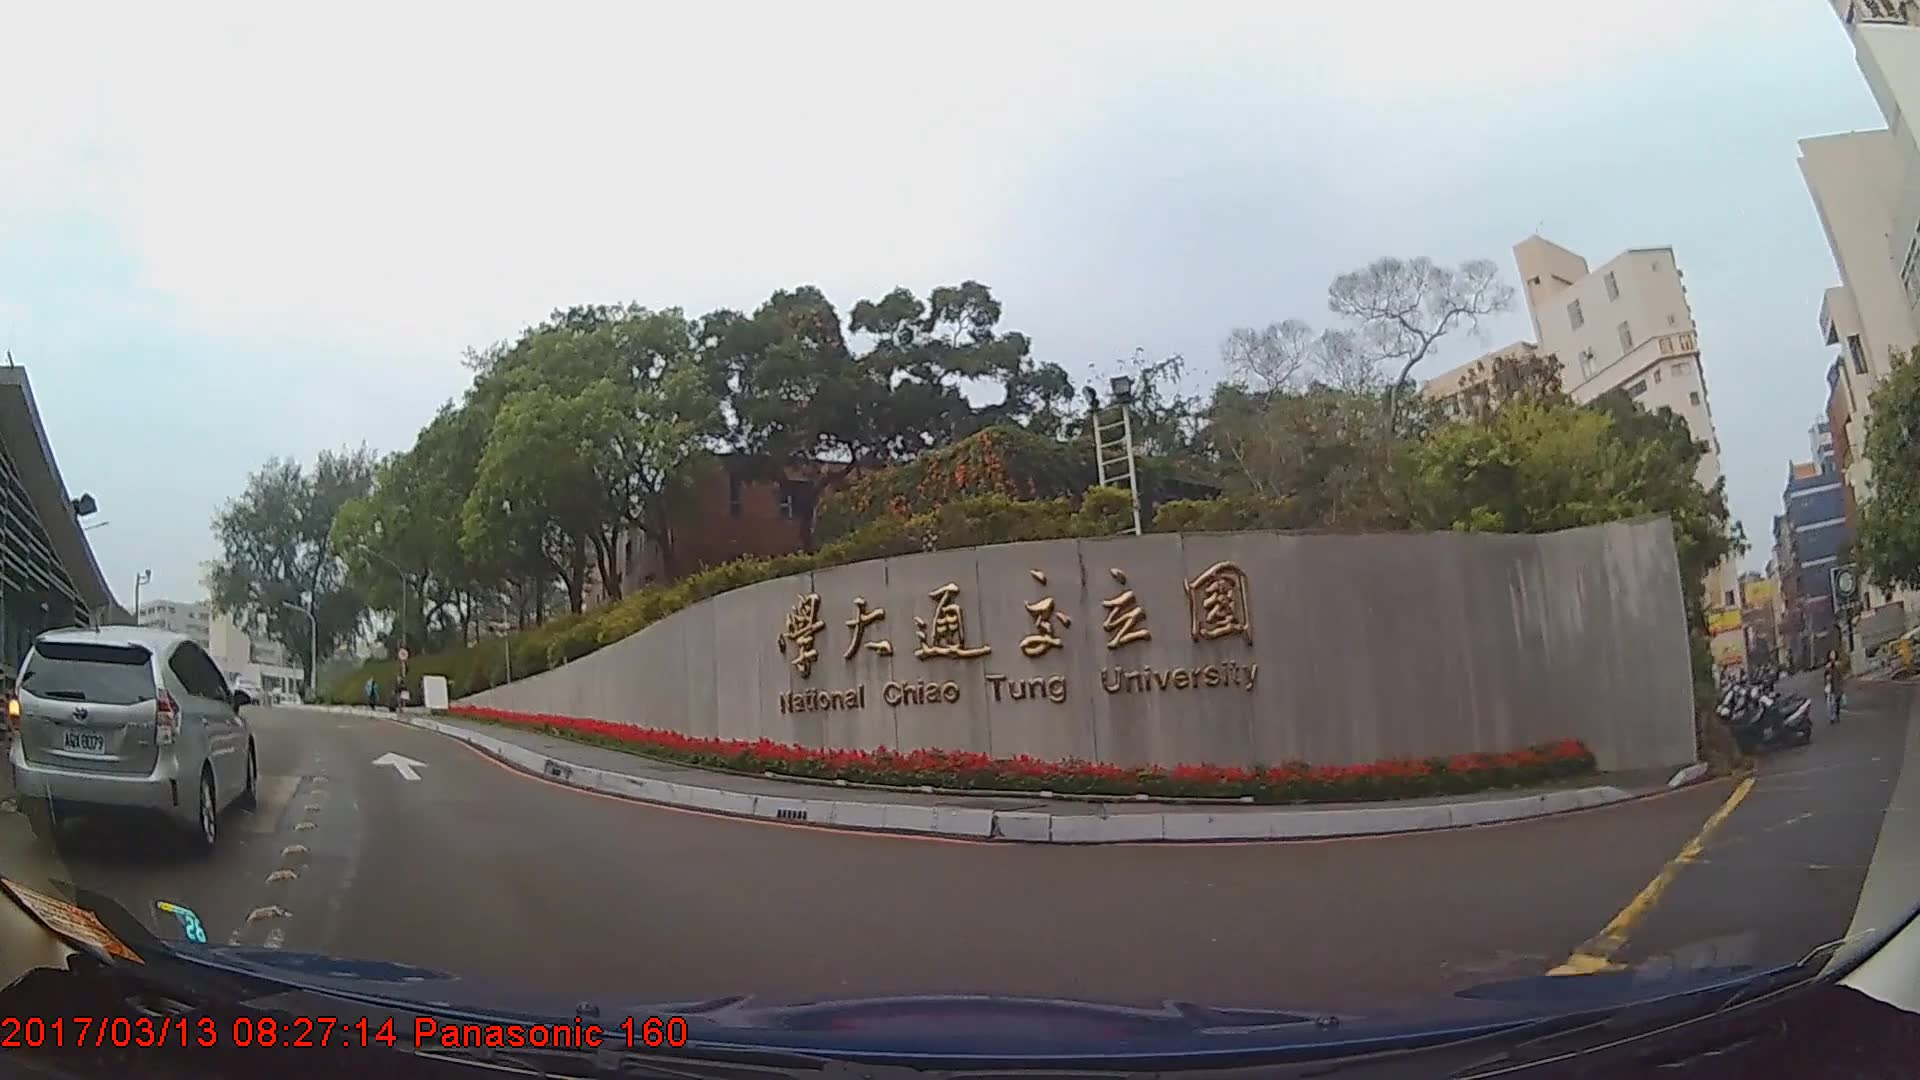pedestrian: (1826, 652, 1849, 729)
vehicle: (12, 624, 259, 854), (232, 676, 265, 703)
